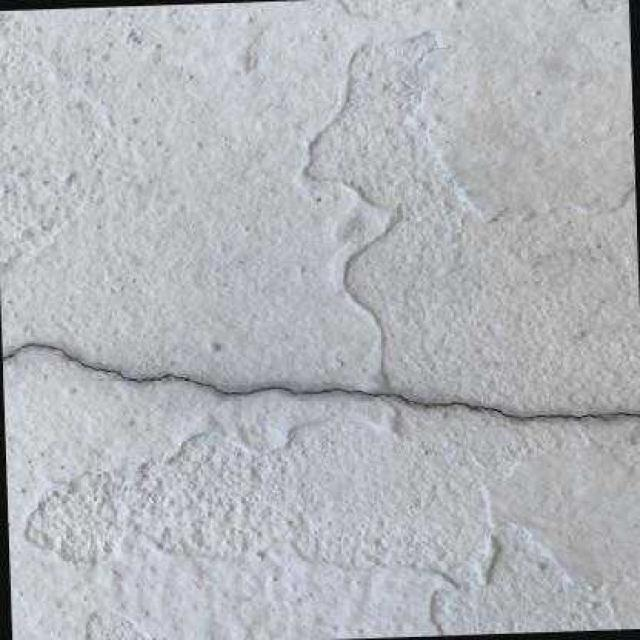D00: (1, 344, 613, 419), (601, 413, 640, 417)
